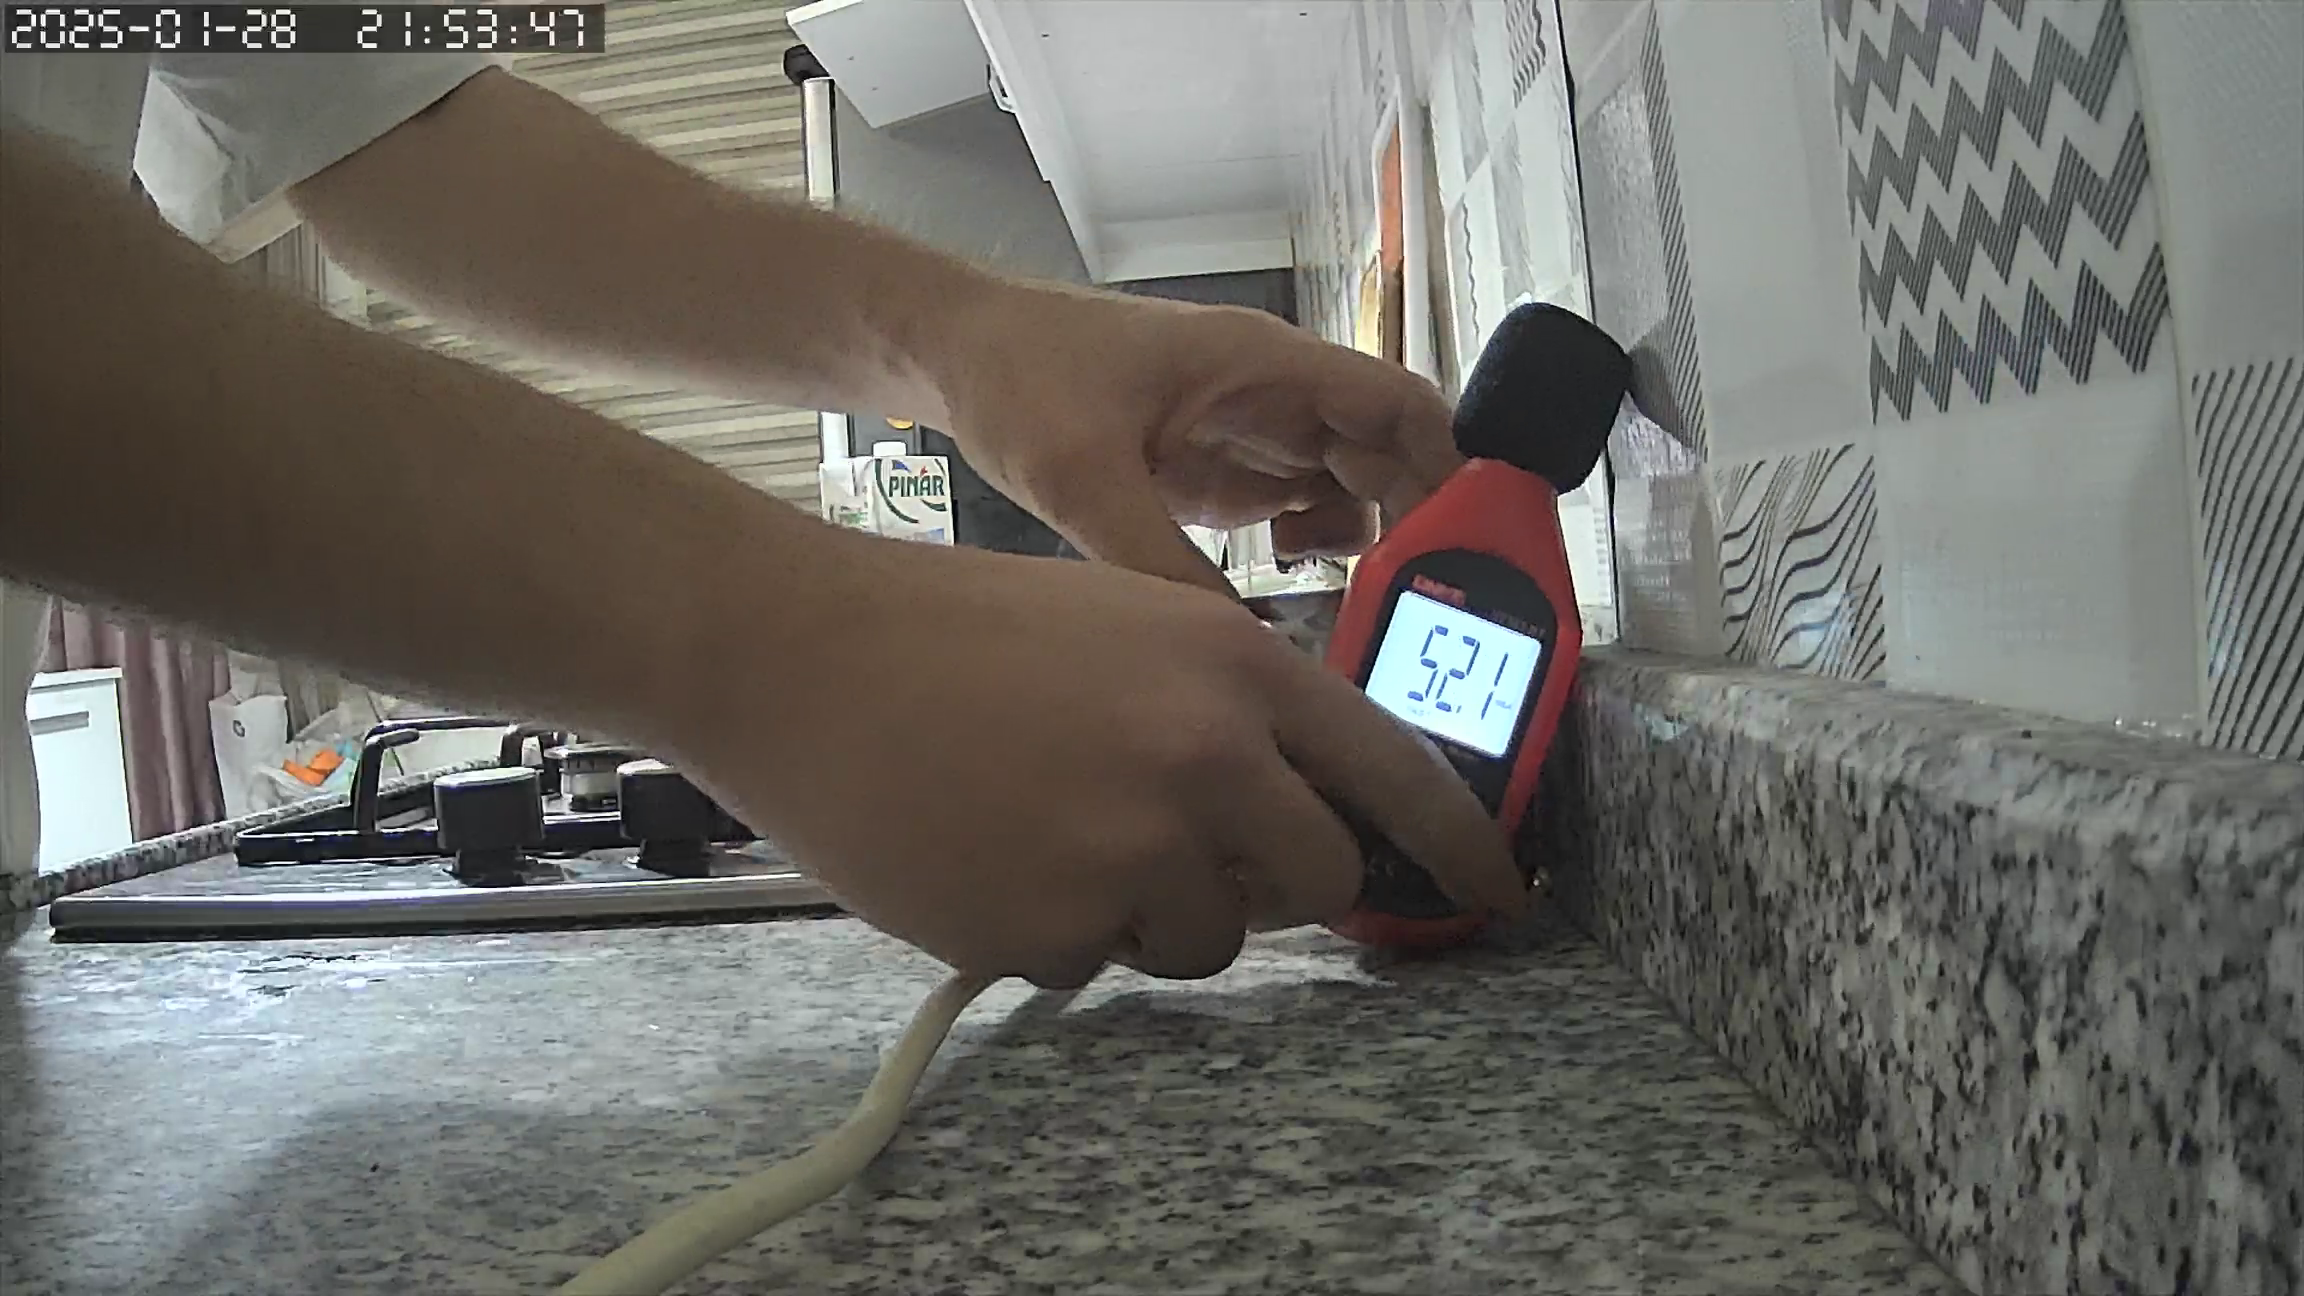screen: (1366, 590, 1541, 760)
